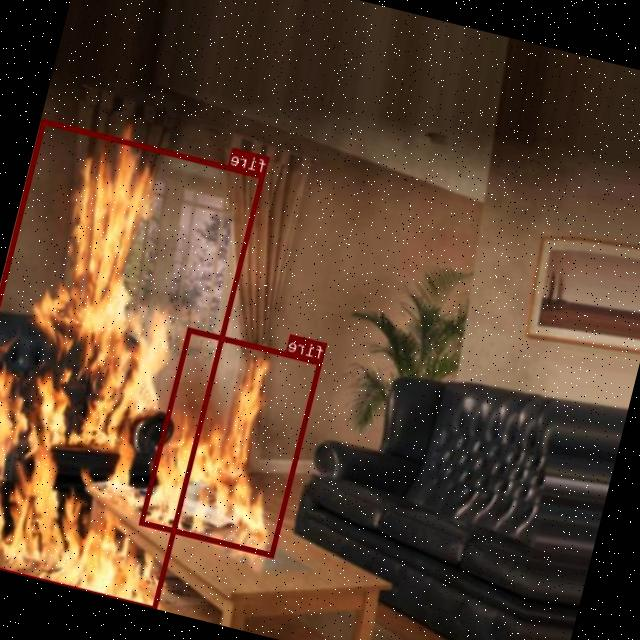fire: (0, 118, 266, 609), (139, 326, 323, 556)
